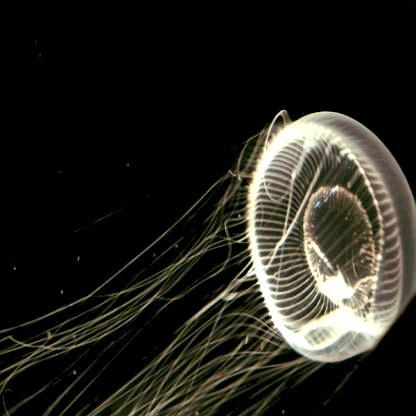FriedEggs: (67, 114, 415, 404)
